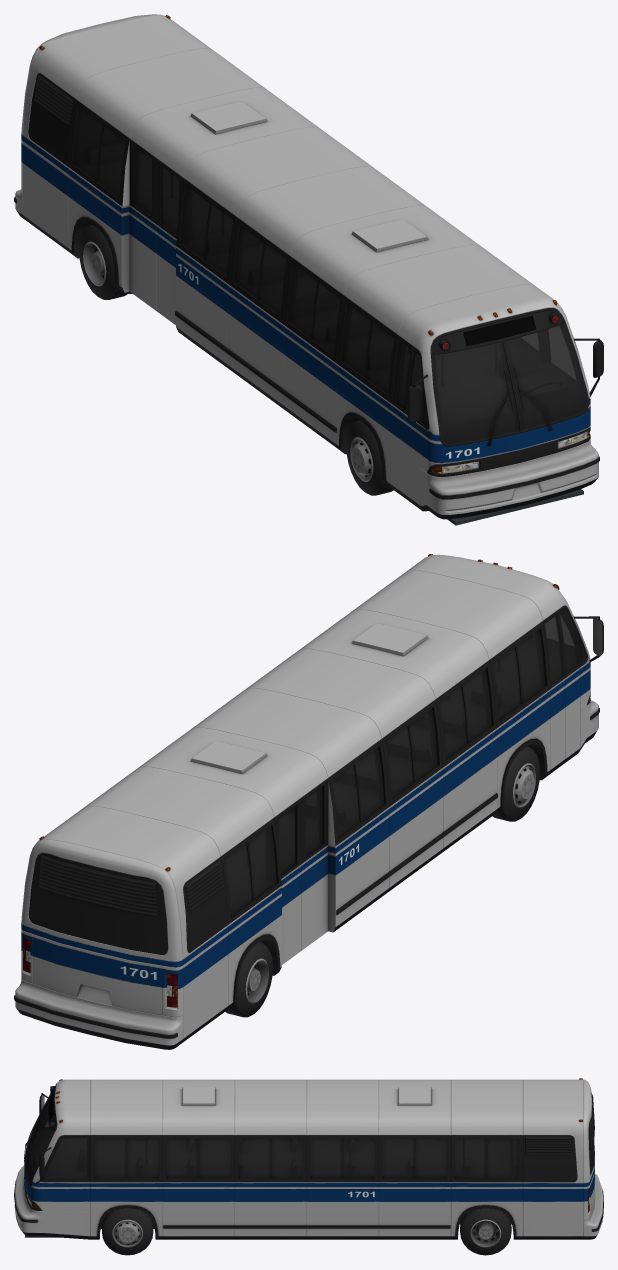
The model's file is bus.glb.
3 renders of one model, top to bottom at view 1: azimuth 30°, elevation 25°; view 2: azimuth 150°, elevation 25°; view 3: azimuth 270°, elevation 25°, orthographic. The views are drawn at different scales.
Visible parts, largest first — view 1: Body (×3), Door skin and glass (×4), TyreRim (×2), Cabin floor; view 2: Body (×2), Door skin and glass (×2), TyreRim (×2), Lamp brake; view 3: Body (×2), Door skin and glass (×3), TyreRim (×2).
Part boxes in pixels (x1,y1,x2,y2): Body (×3): (14,14,603,519); Door skin and glass (×4): (392,310,603,519); TyreRim (×2): (79,225,393,495); Cabin floor: (447,489,583,525); Body (×2): (14,554,602,1049); Door skin and glass (×2): (532,589,603,764); TyreRim (×2): (225,746,540,1017); Lamp brake: (23,836,177,1007); Body (×2): (14,1079,603,1239); Door skin and glass (×3): (25,1090,88,1238); TyreRim (×2): (102,1208,511,1255).
Bounding box in the file's own units: 2.55 × 2.53 × 10.
8 materials, 6 textured.
